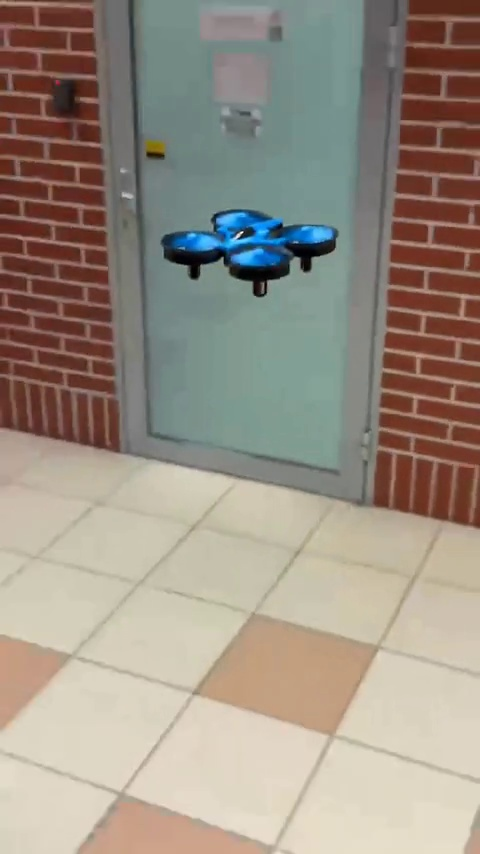drone: (162, 207, 342, 291)
